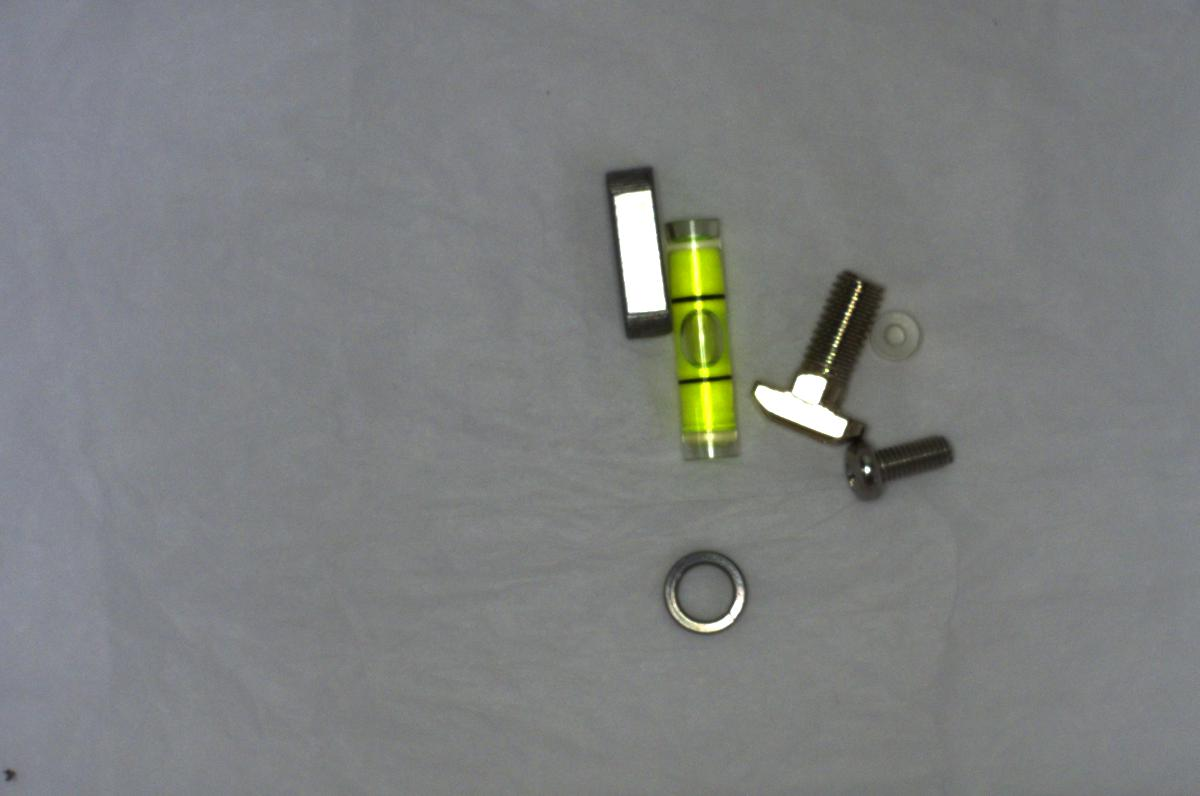Horizontal bubble: (653, 209, 750, 468)
Keybar: (597, 156, 684, 344)
Plastic cushion pillar: (866, 301, 926, 367)
Round head screw: (830, 415, 951, 508)
Spring washer: (651, 544, 757, 644)
T-shaped screw: (738, 255, 876, 444)
